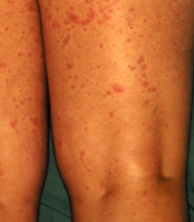SJS-TEN: (6, 0, 194, 184)
